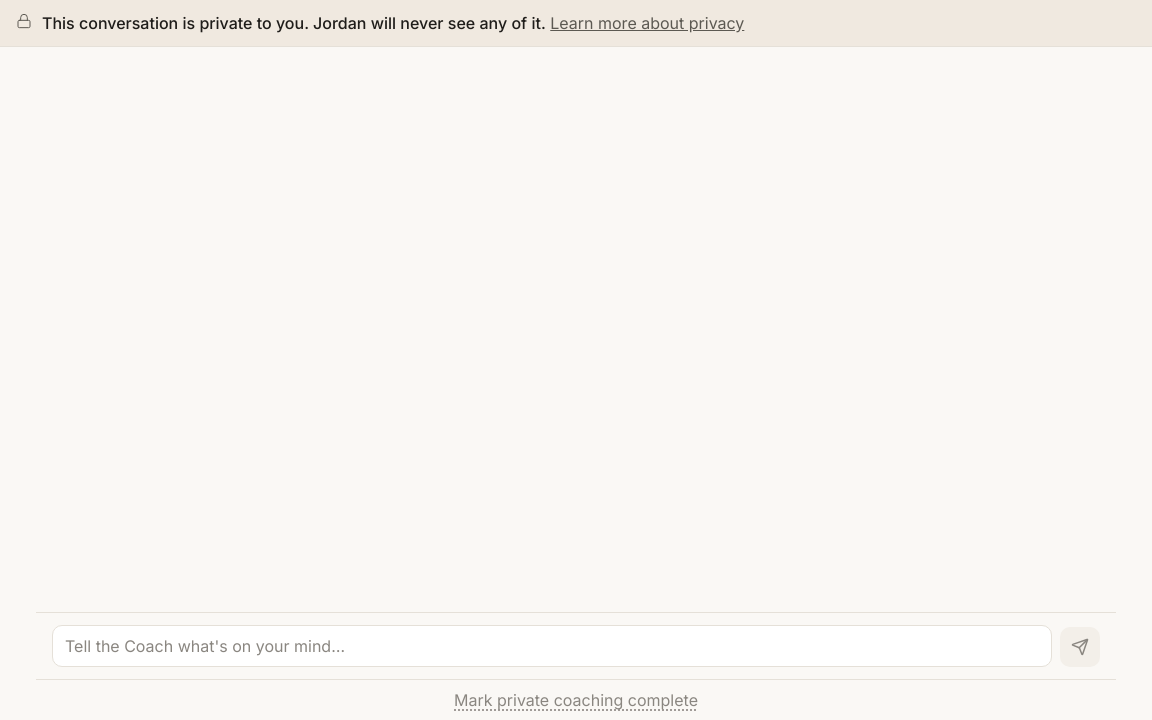
WOR-68: Modal focus trap — AlertDialog (mark-complete confirmation) › clicking mark-complete opens an AlertDialog with aria-modal
// Click the mark-complete trigger button
Click the button "Mark private coaching complete" at (576, 700), box 454,688 -> 698,712
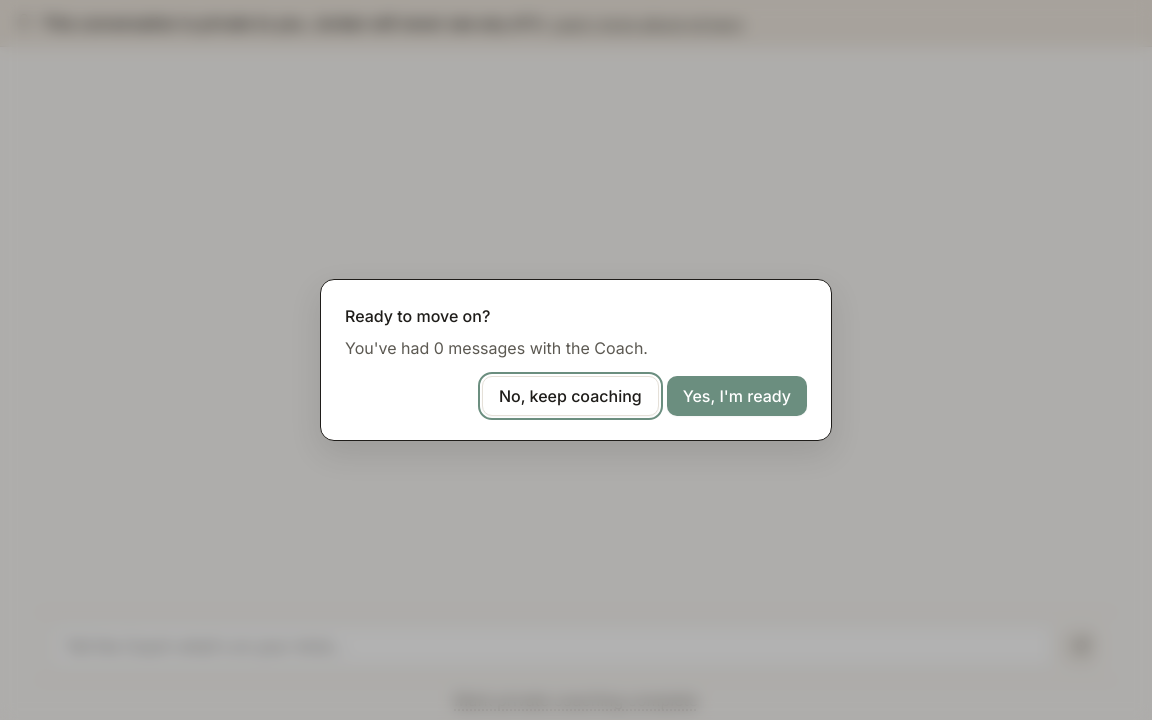
Expected: the dialog is shown, 320,279 -> 832,441
